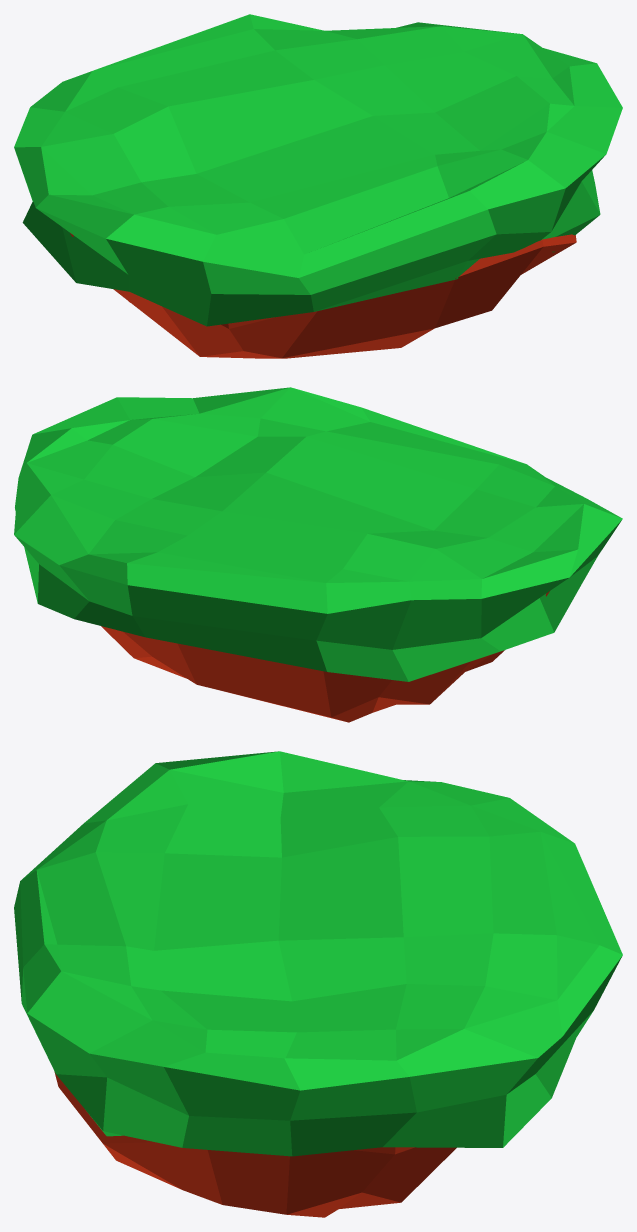
The model's file is PlatGra.obj.
The picture shows the model from 3 angles, top to bottom: view 1: azimuth 30°, elevation 25°; view 2: azimuth 150°, elevation 25°; view 3: azimuth 270°, elevation 25°; orthographic projection. The views are drawn at different scales.
Visible parts, largest first — view 1: Esfera_UV.003; view 2: Esfera_UV.003; view 3: Esfera_UV.003.
Boxes of the visible parts, left/top/right/bottom form: Esfera_UV.003: left=14, top=14, right=622, bottom=358; Esfera_UV.003: left=14, top=387, right=622, bottom=722; Esfera_UV.003: left=14, top=751, right=622, bottom=1217.
Bounding box in the file's own units: 2.6 × 0.9566 × 2.04.
